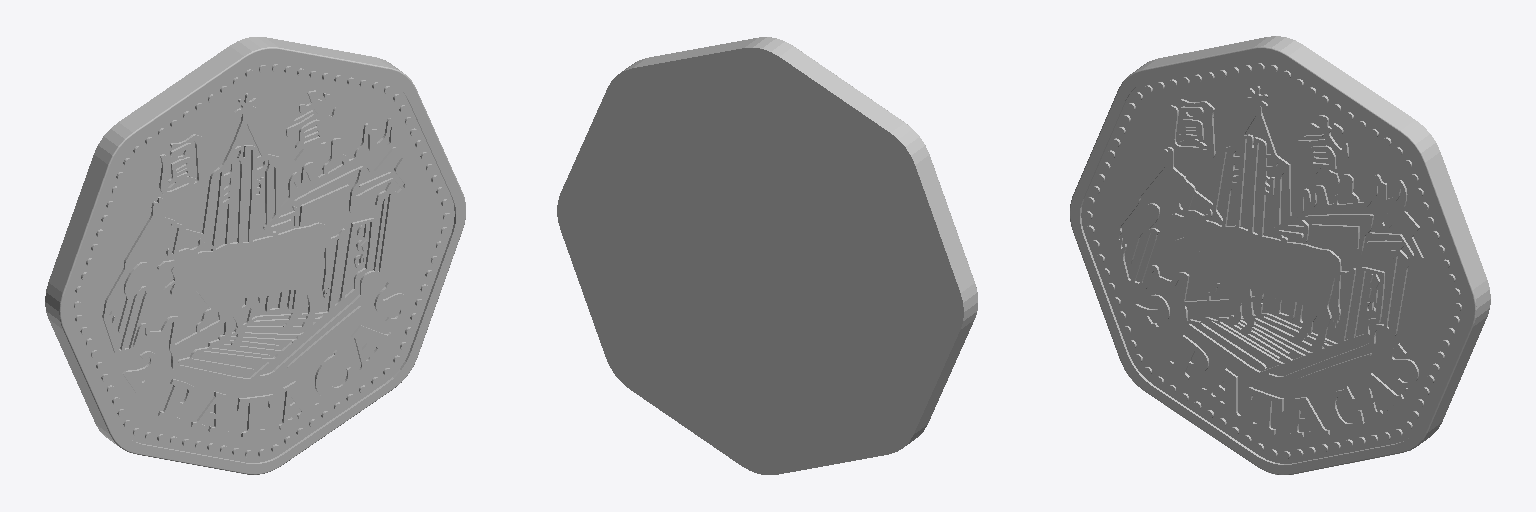
Rendered from coaster_1.obj.
3 renders of one model, left to right at view 1: azimuth 30°, elevation 25°; view 2: azimuth 150°, elevation 25°; view 3: azimuth 330°, elevation 25°, orthographic.
Visible parts, largest first — view 1: coaster3_1; view 2: coaster3_1; view 3: coaster3_1.
Part boxes in pixels (x1,y1,x2,y2): coaster3_1: (45, 37, 465, 474); coaster3_1: (557, 37, 977, 474); coaster3_1: (1070, 36, 1490, 474).
Size of the model in its own units: 94.02 by 94.03 by 6.